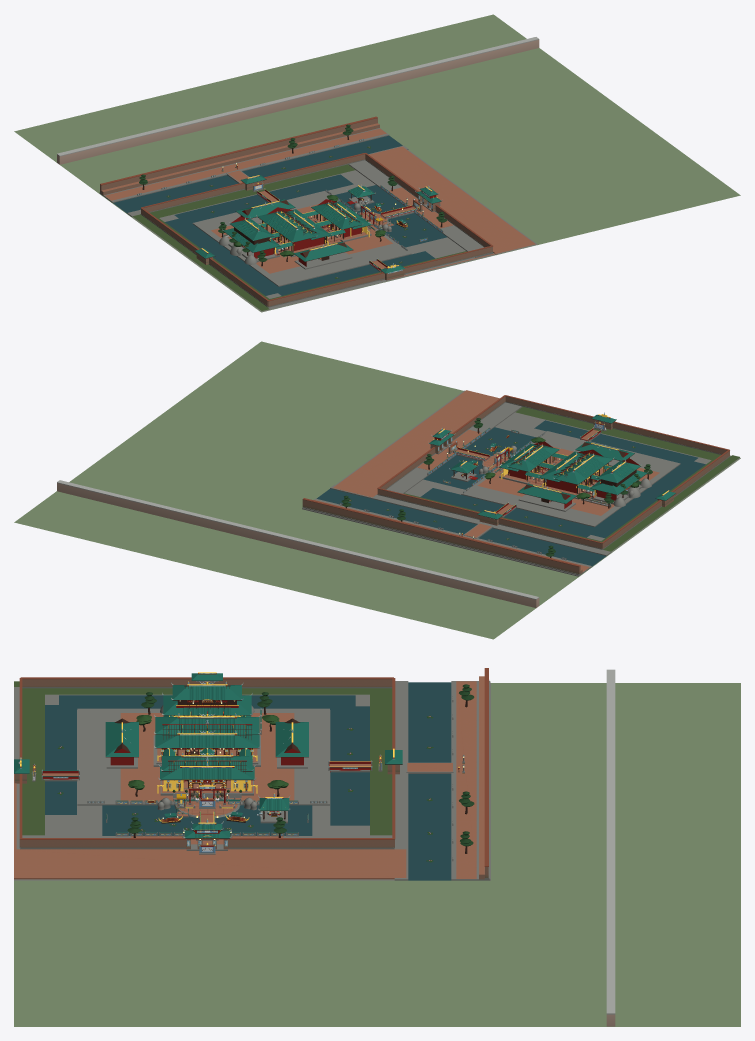
The model's file is T14_cung_truong_sanh.glb.
3 views of the same model, one above another, from view 1: azimuth 30°, elevation 25°; view 2: azimuth 150°, elevation 25°; view 3: azimuth 270°, elevation 25° (orthographic). The views are drawn at different scales.
Parts seen in each view (by area): view 1: T14_V2_Satellite_Seamless_Base, StaticRoot_v02, V09_CauVomDa_DucLangChuVuong_BinhPhongTuQuy_PhatDienVanPhuoc; view 2: T14_V2_Satellite_Seamless_Base, StaticRoot_v02, V09_CauVomDa_DucLangChuVuong_BinhPhongTuQuy_PhatDienVanPhuoc; view 3: T14_V2_Satellite_Seamless_Base, StaticRoot_v02, V09_CauVomDa_DucLangChuVuong_BinhPhongTuQuy_PhatDienVanPhuoc.
Part boxes in pixels (left/top/right/bottom): T14_V2_Satellite_Seamless_Base: left=14, top=14, right=740, bottom=312; StaticRoot_v02: left=99, top=116, right=537, bottom=311; V09_CauVomDa_DucLangChuVuong_BinhPhongTuQuy_PhatDienVanPhuoc: left=223, top=188, right=417, bottom=280; T14_V2_Satellite_Seamless_Base: left=14, top=341, right=740, bottom=639; StaticRoot_v02: left=302, top=390, right=740, bottom=576; V09_CauVomDa_DucLangChuVuong_BinhPhongTuQuy_PhatDienVanPhuoc: left=453, top=412, right=639, bottom=517; T14_V2_Satellite_Seamless_Base: left=14, top=669, right=740, bottom=1026; StaticRoot_v02: left=14, top=668, right=490, bottom=880; V09_CauVomDa_DucLangChuVuong_BinhPhongTuQuy_PhatDienVanPhuoc: left=18, top=702, right=372, bottom=822.
Size of the model in its own units: 225 by 12.92 by 201.
22 materials, 4 textured.
